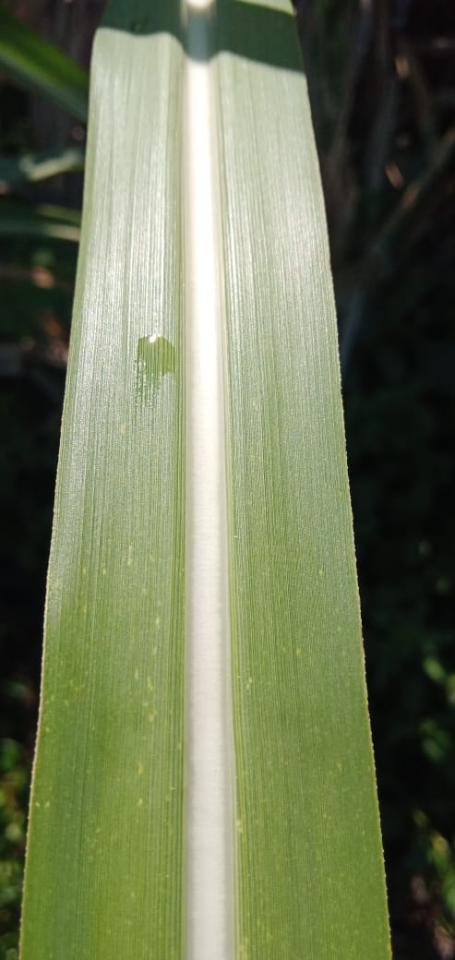Healthy: (20, 0, 390, 959)
